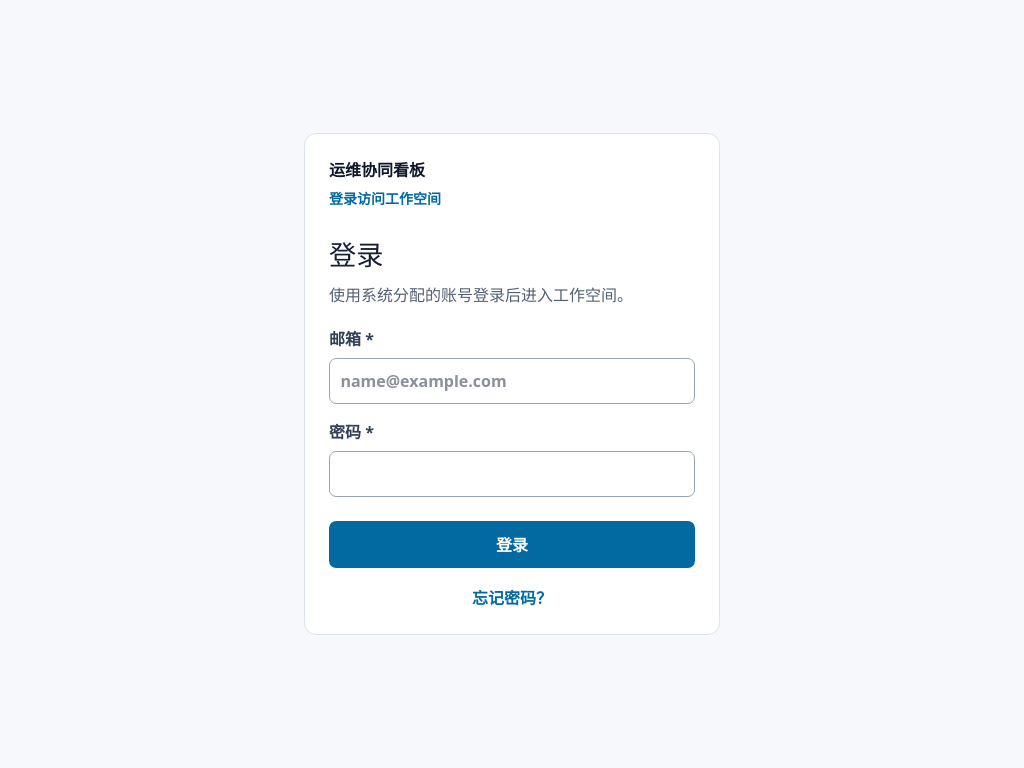
受保护路由 › 登录后安全返回 /tasks
Type "a@example.com" into the field labelled "邮箱 *".
click(512, 381); type("a@example.com")  # box [329,358,695,404]
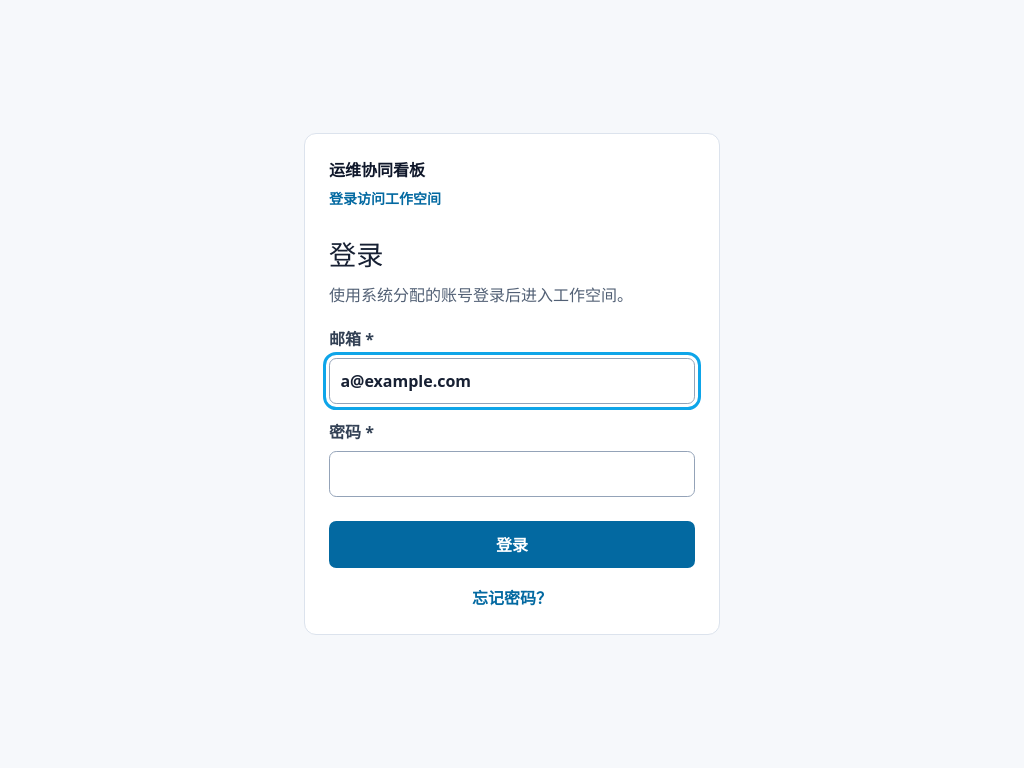
Type "secret-password" into the password field labelled "密码 *".
click(512, 474); type("secret-password")  # box [329,451,695,498]
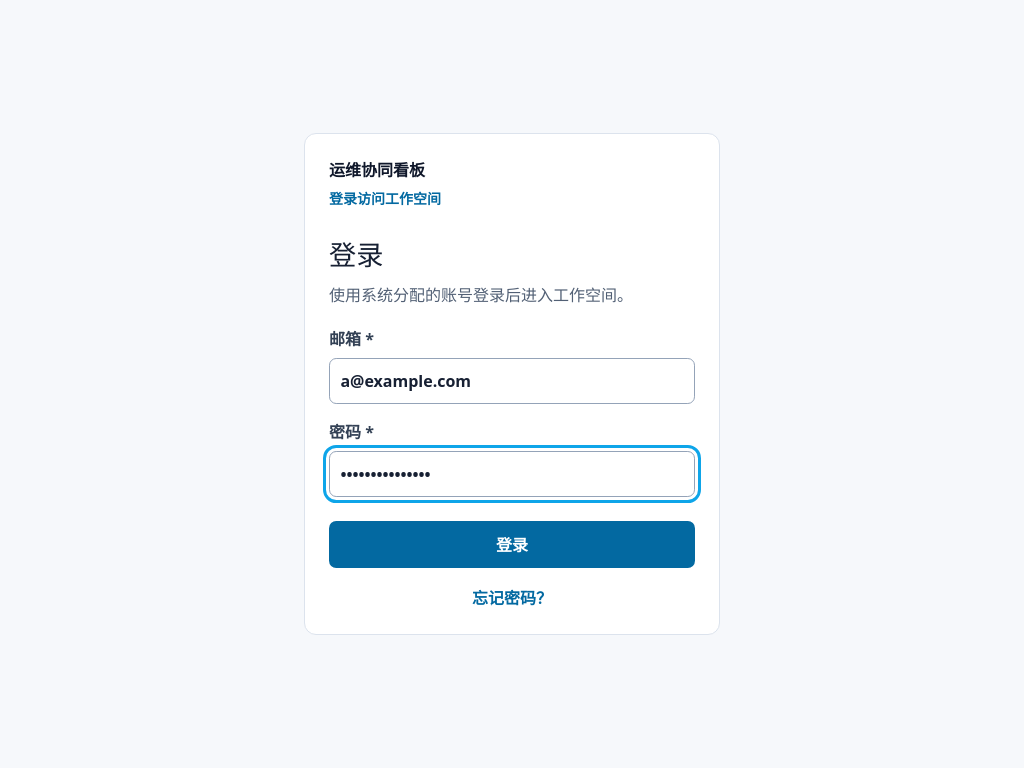
Click the button "登录".
click(512, 545)  # box [329,522,695,568]
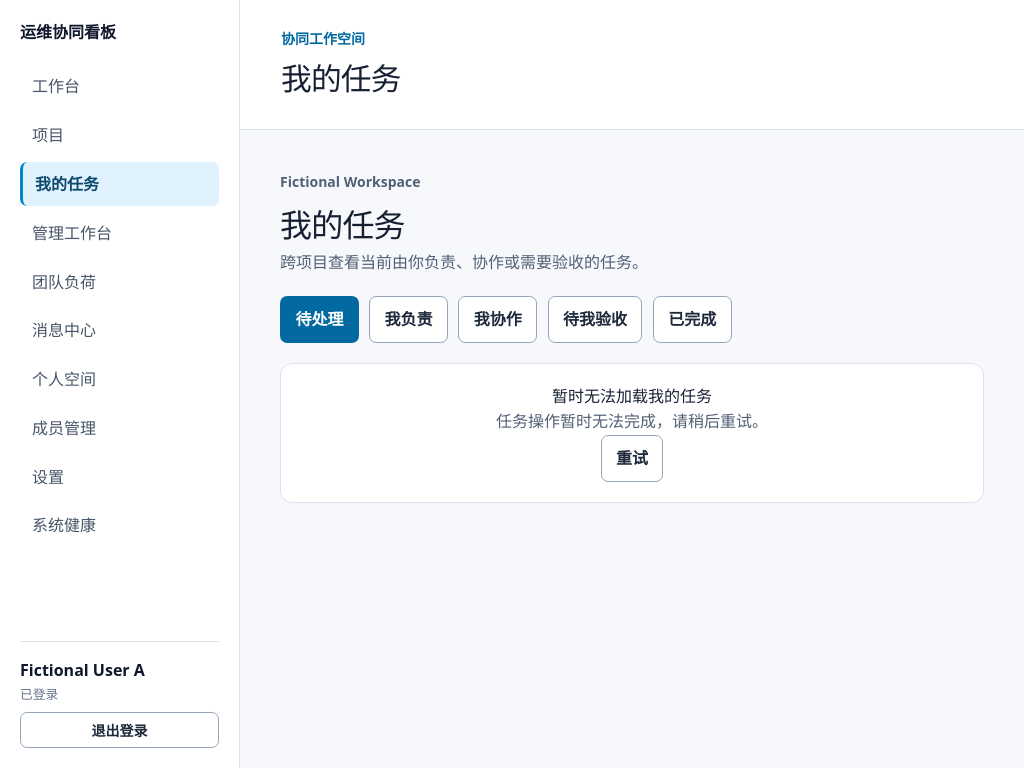
Expected: the heading "我的任务" below "协同工作空间" is shown, [281,57,401,99]
